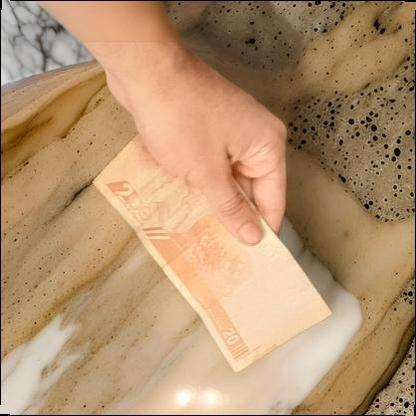twenty-back-vef: (90, 132, 333, 374)
